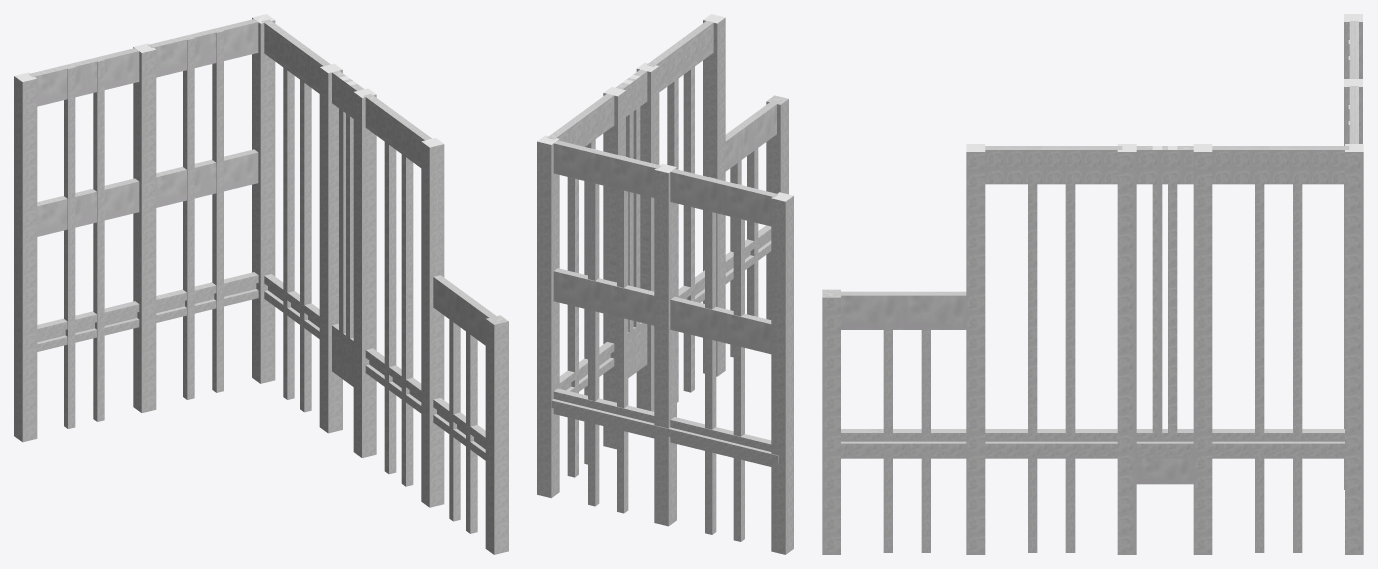
The model's file is MainBuildPart1.fbx.
3 views of the same model, side by side, from view 1: azimuth 30°, elevation 25°; view 2: azimuth 150°, elevation 25°; view 3: azimuth 270°, elevation 25° (orthographic). The views are drawn at different scales.
Parts seen in each view (by area): view 1: node_id7 (×2); view 2: node_id7 (×2); view 3: node_id7 (×2).
Part boxes in pixels (bbox=[...]): node_id7 (×2): bbox=[14, 14, 508, 554]; node_id7 (×2): bbox=[537, 14, 793, 554]; node_id7 (×2): bbox=[822, 14, 1363, 554].
Size of the model in its own units: 0.3762 by 0.512 by 0.6236.
2 materials, 1 textured.
